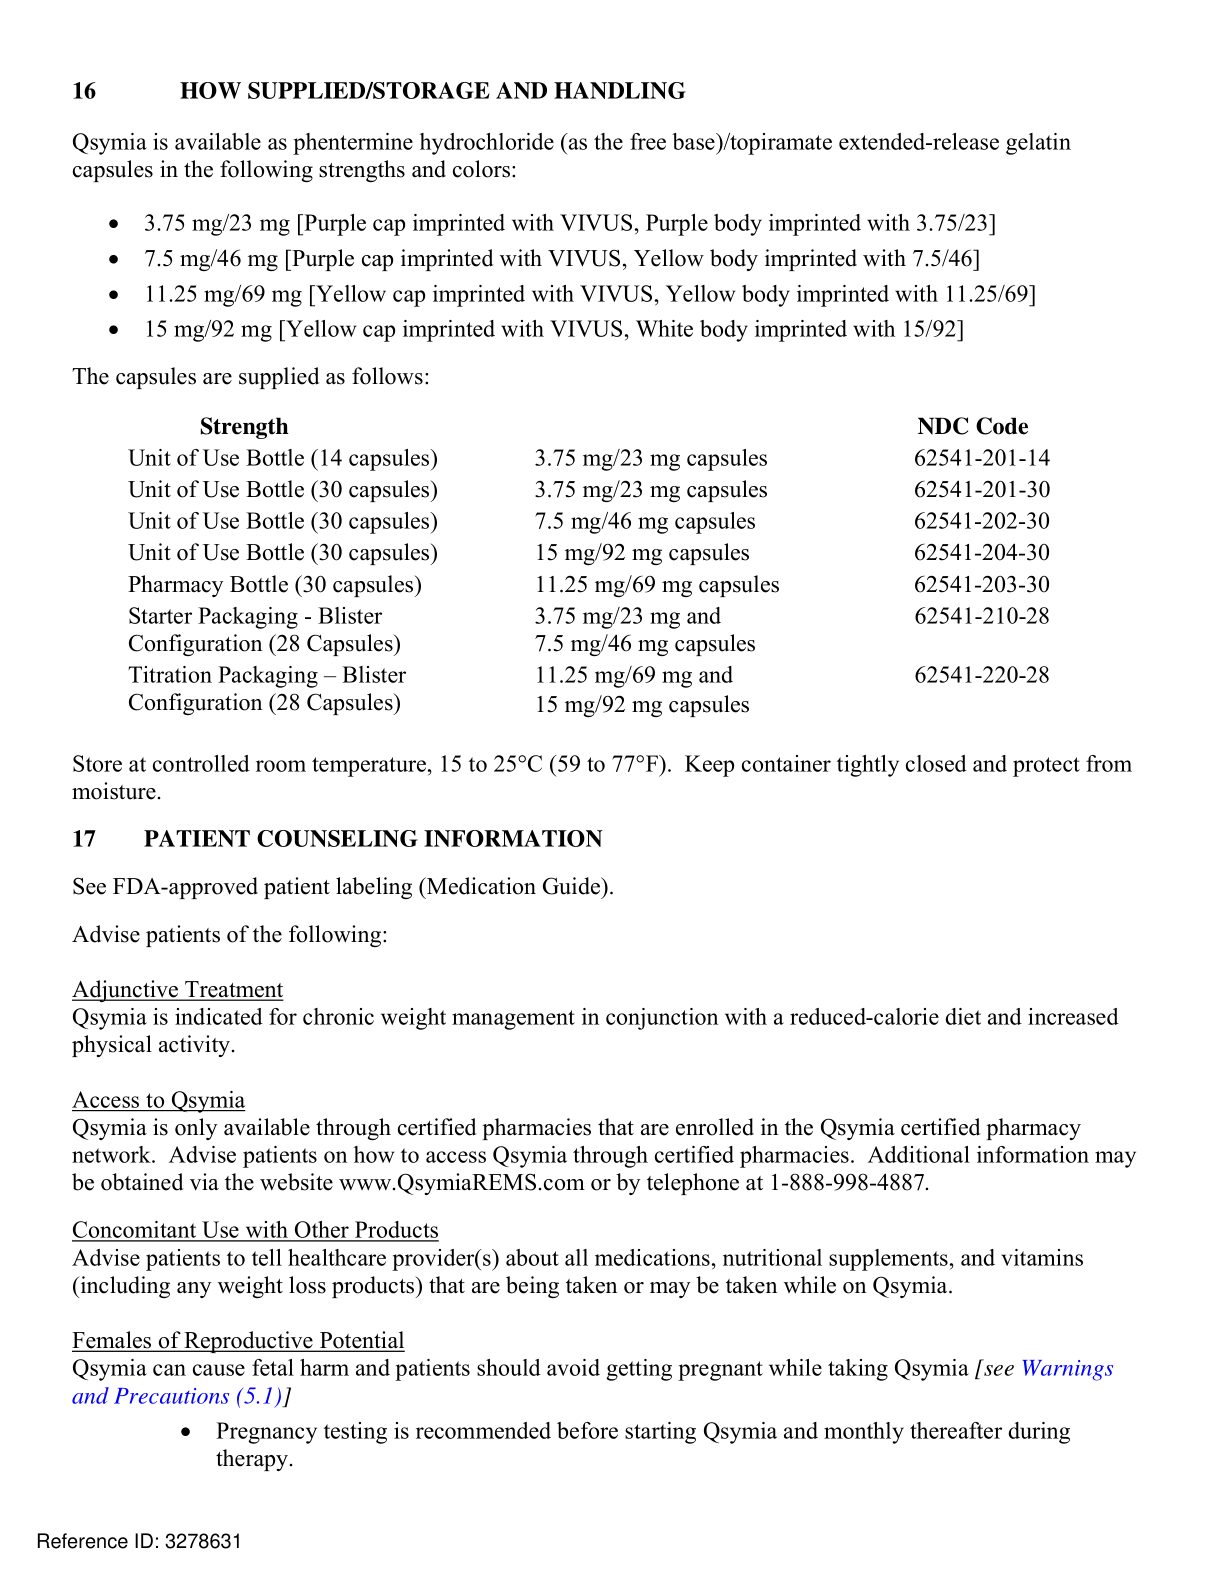nolines: (129, 413, 1050, 717)
